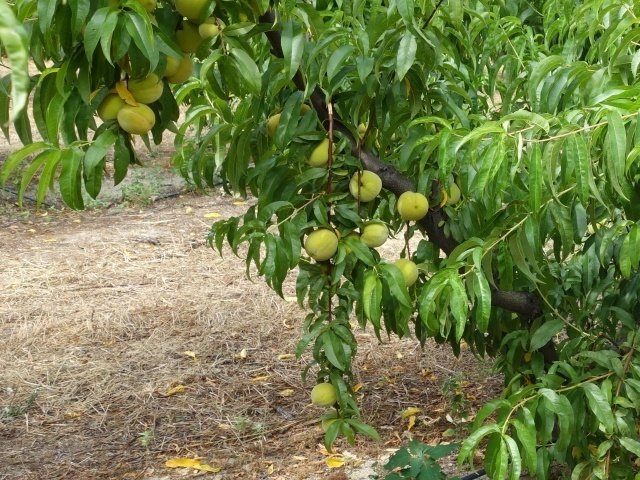peach: (115, 102, 160, 140), (345, 166, 385, 205), (301, 226, 339, 267), (123, 72, 167, 106), (394, 188, 432, 225), (169, 20, 207, 54), (301, 138, 337, 169), (191, 14, 228, 44), (356, 218, 390, 250), (385, 253, 417, 287), (93, 91, 126, 123), (168, 56, 199, 89), (309, 379, 339, 412), (263, 110, 286, 141), (442, 179, 464, 209)
